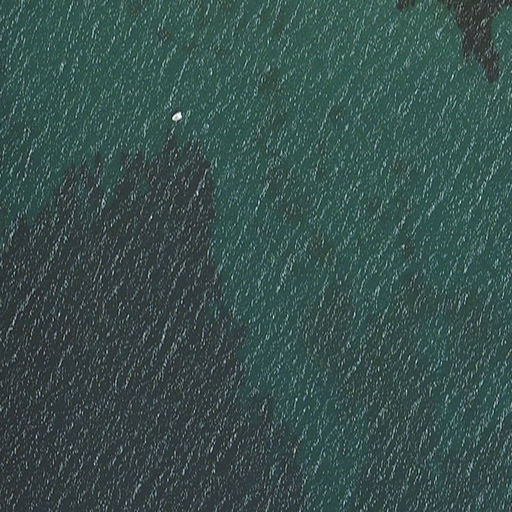ship: (171, 111, 183, 122)
